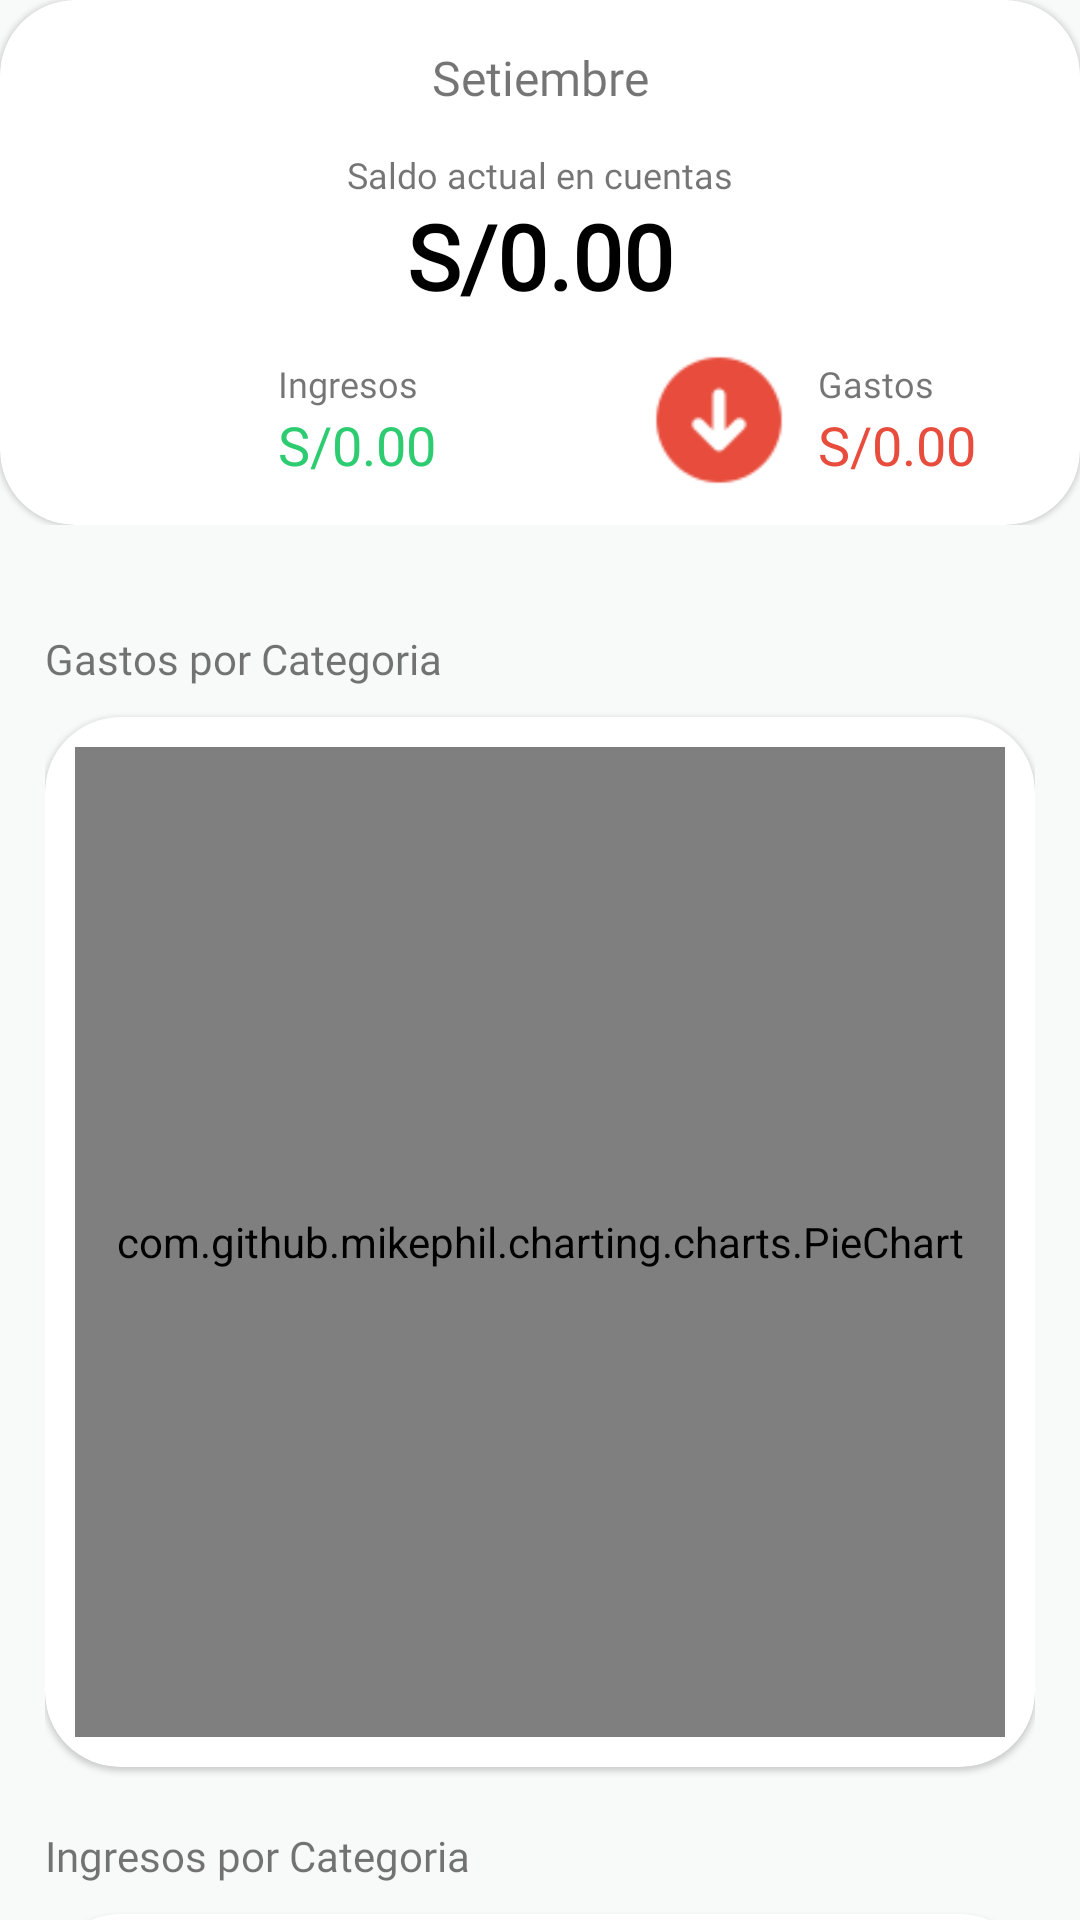

Icon click points for this 1080*1920 phone screenshot, format [x,y]:
flecha down: [719,420]
